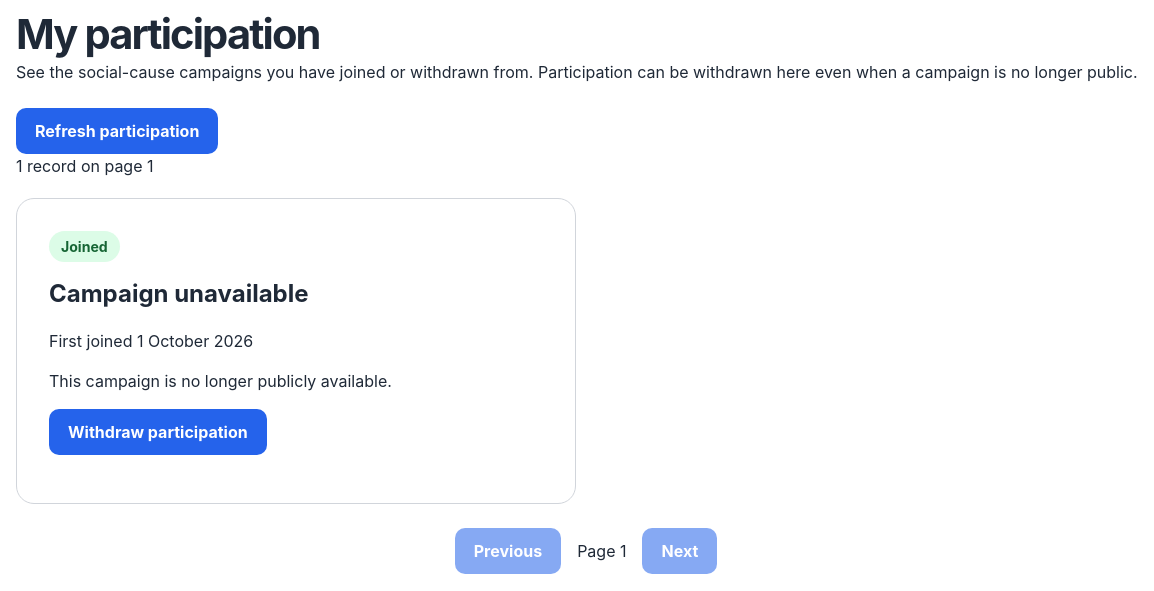
it: My participation › withdraws an existing record without disclosing an unavailable campaign: null
Click the button "Withdraw participation" at (158, 432), box [49,409,267,455]
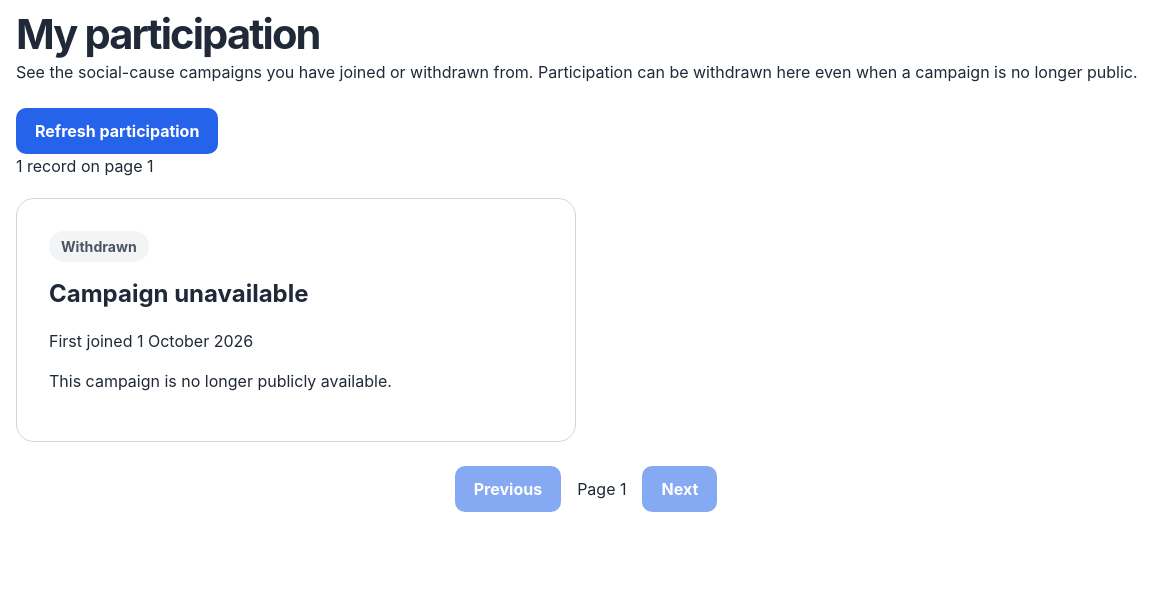
Check: the text "First joined 1 October 2026" is shown, box [49,331,253,351]
Check: the text "Withdrawn" is shown, box [49,231,149,262]
